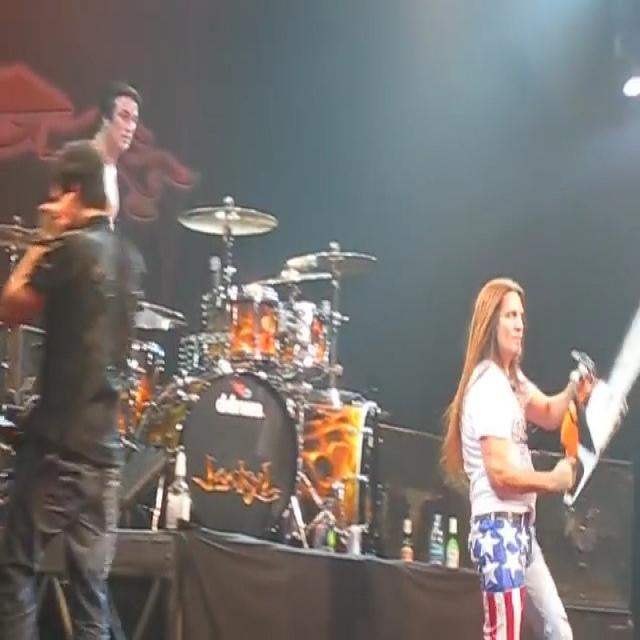Chainsaw: (549, 284, 639, 506)
